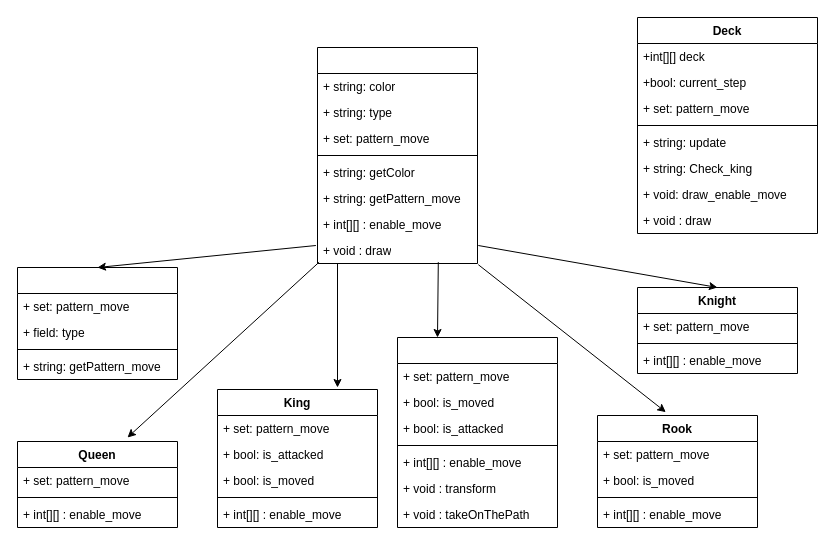
The diagram is 835 pixels wide and 548 high, and some of its shapes have lost their labels. The shapes that lost their labels are listed below. From the top down, each one's box as (x1, y1, x2, y2) in pixels, then its label:
(316, 46, 478, 264): Figure
(16, 266, 178, 380): Bishop
(396, 336, 558, 528): Pawn
